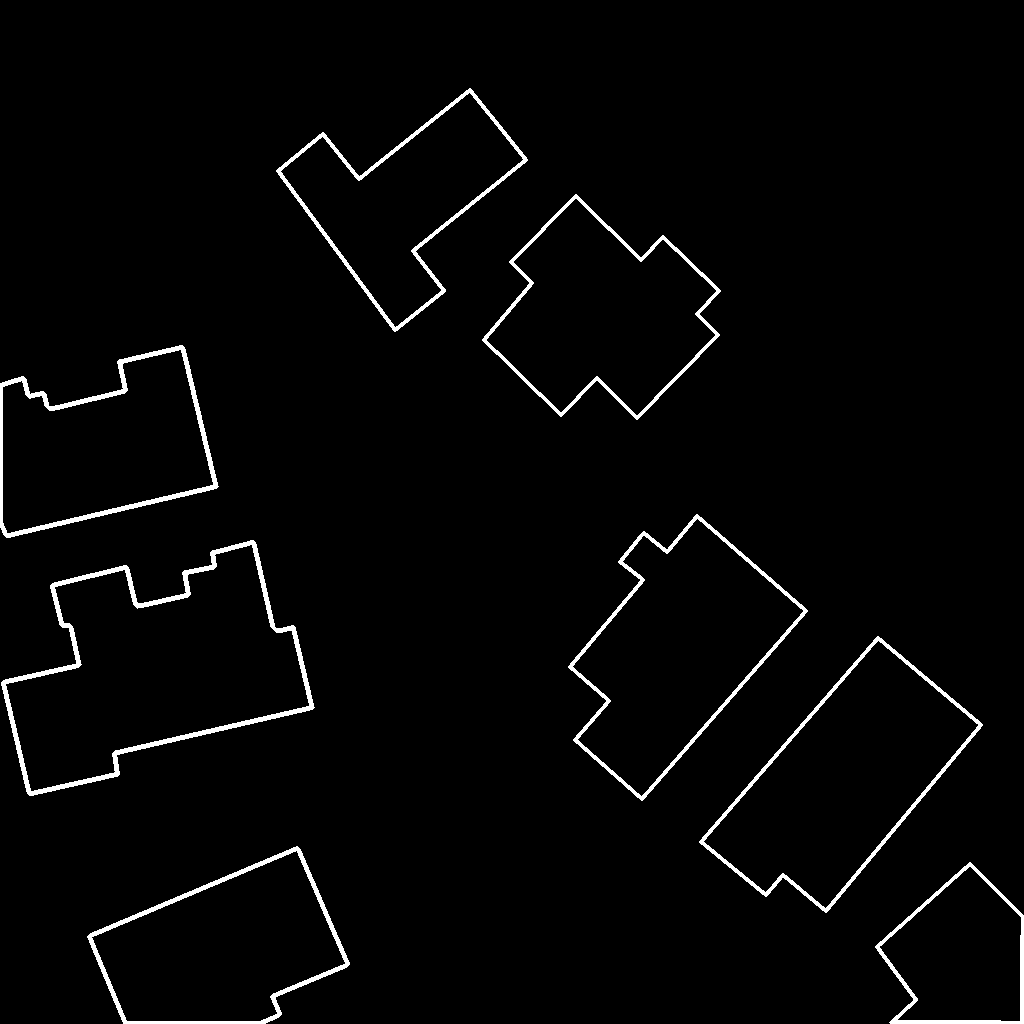building: (3, 542, 313, 795), (701, 638, 982, 912), (570, 516, 807, 800), (278, 90, 527, 331), (484, 196, 720, 419), (89, 848, 349, 1024), (0, 347, 217, 537), (877, 864, 1024, 1024)
